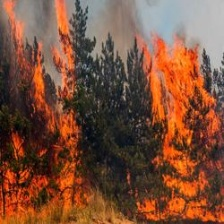fire: (4, 1, 83, 216), (144, 44, 224, 221)
